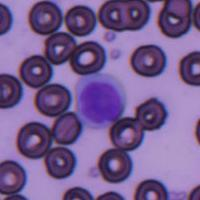M: (75, 73, 126, 129)
